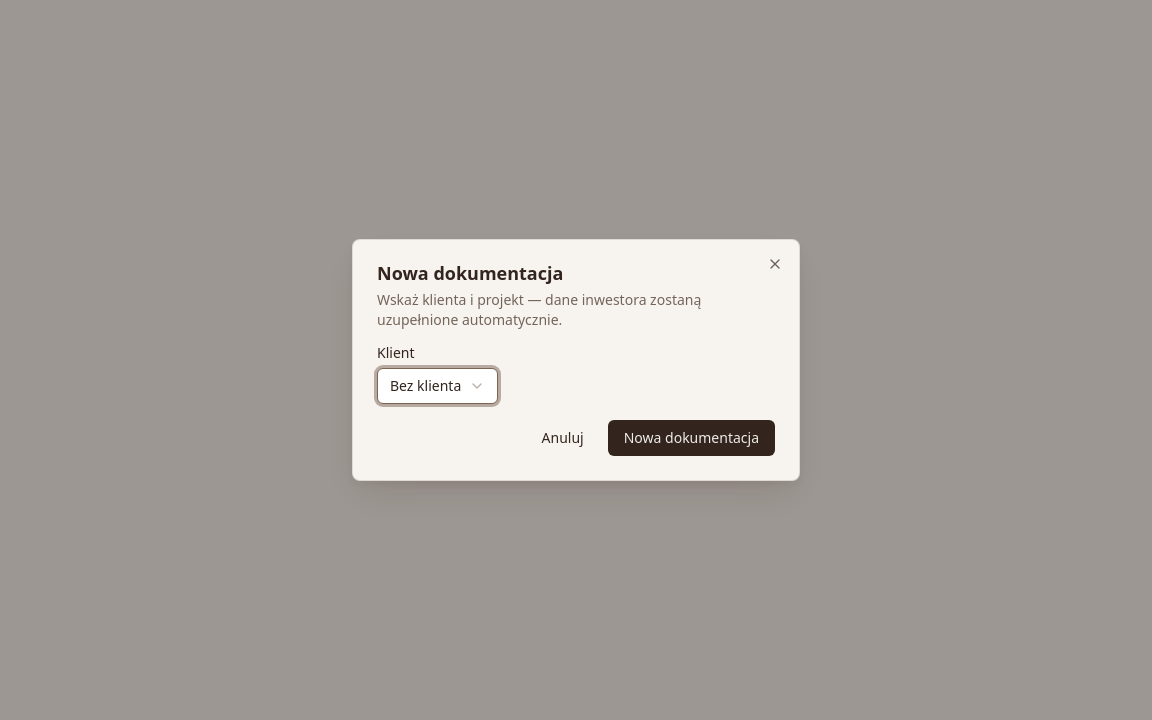
Test: NewQuoteDialog › projekt pokazuje sie DOPIERO po wybraniu klienta
This screenshot has width=1152, height=720.
Expected: the dropdown labelled "Projekty" is not shown
Click the dropdown labelled "klient". click: [438, 386]
box: [377, 368, 498, 404]
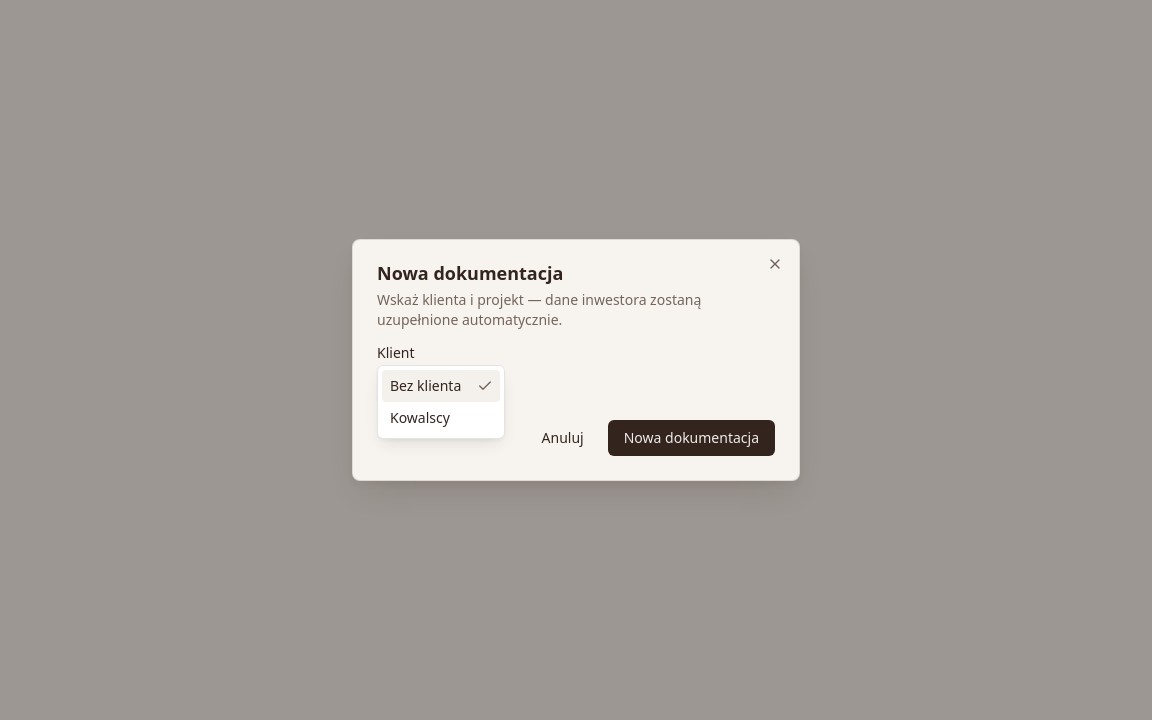
Click the option "Kowalscy". click: [420, 418]
box: [390, 408, 450, 427]
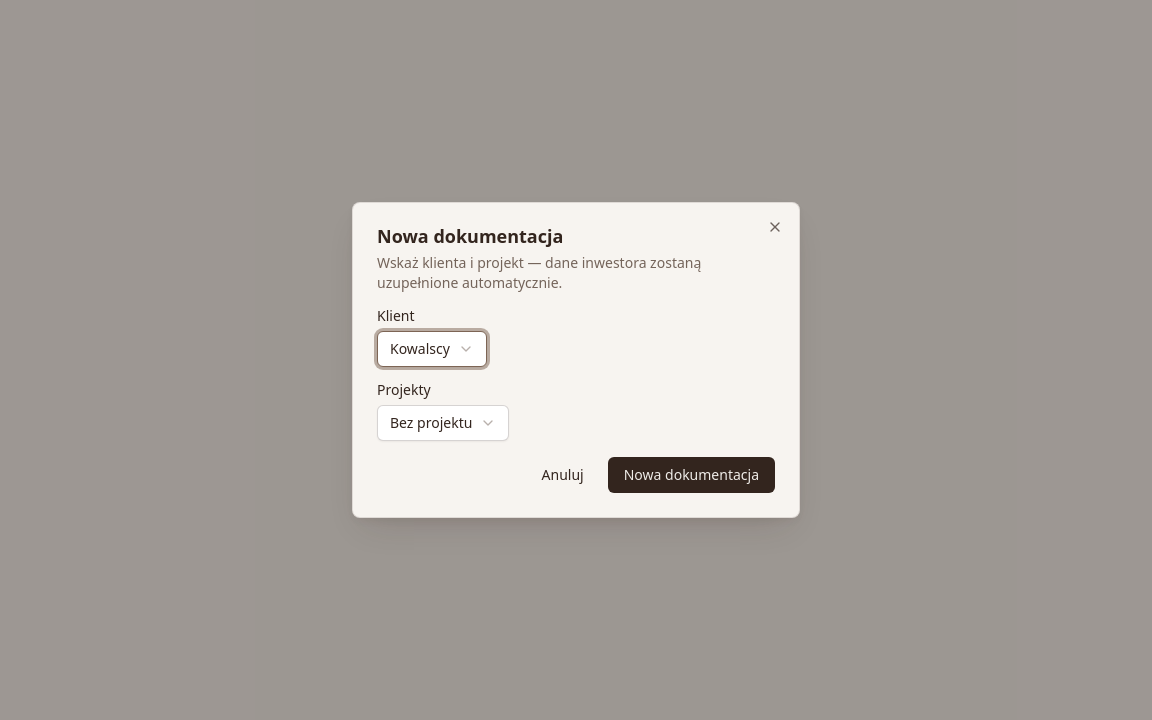
Expected: the dropdown named "Projekty" is shown, [377, 405, 509, 441]
